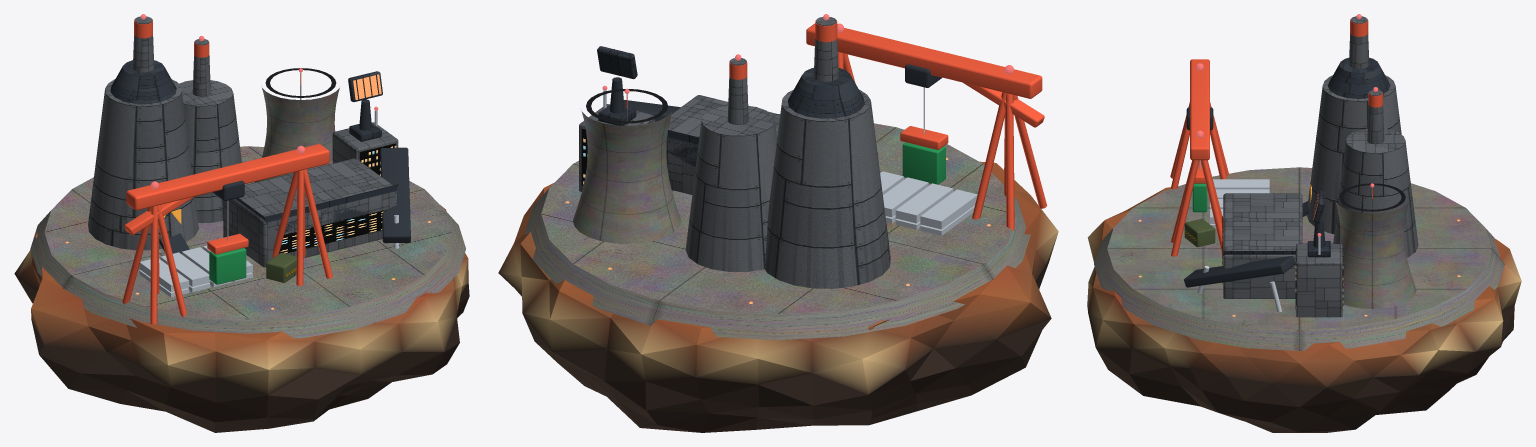
File: steel.glb
The picture shows the model from 3 angles, left to right: view 1: azimuth 30°, elevation 25°; view 2: azimuth 150°, elevation 25°; view 3: azimuth 270°, elevation 25°; orthographic projection. The views are drawn at different scales.
Visible parts, largest first — view 1: object 1, object 2, object 13, object 23, object 18, object 42, object 20, object 47, anim:trolley, anim:smoke (×2), object 14, object 25 (+16 smaller); view 2: object 1, object 2, object 13, object 18, object 20, object 42, anim:trolley, anim:smoke (×2), object 23, object 14, object 30, object 34 (+9 smaller); view 3: object 1, object 2, object 23, object 20, object 18, object 13, object 50, object 42, anim:smoke (×2), object 47, object 14, anim:trolley (+6 smaller).
Part boxes in pixels (x1,y1,x2,y2): object 1: [14, 205, 469, 432]; object 2: [30, 146, 465, 338]; object 13: [88, 79, 198, 250]; object 23: [223, 158, 396, 267]; object 18: [179, 80, 241, 222]; object 42: [126, 144, 329, 210]; object 20: [254, 88, 339, 182]; object 47: [380, 147, 410, 243]; anim:trolley: [207, 180, 248, 284]; anim:smoke (×2): [132, 14, 210, 96]; object 14: [110, 60, 176, 103]; object 25: [279, 209, 386, 253]; object 1: [498, 161, 1058, 432]; object 2: [525, 114, 1030, 340]; object 13: [765, 89, 890, 288]; object 18: [685, 106, 777, 271]; object 20: [573, 111, 681, 243]; object 42: [806, 23, 1042, 98]; anim:trolley: [900, 64, 948, 184]; anim:smoke (×2): [727, 14, 838, 124]; object 23: [666, 95, 780, 194]; object 14: [788, 67, 864, 118]; object 30: [920, 189, 977, 229]; object 34: [1005, 93, 1014, 230]; object 1: [1087, 187, 1521, 432]; object 2: [1094, 167, 1504, 350]; object 23: [1223, 193, 1302, 298]; object 20: [1335, 201, 1416, 309]; object 18: [1333, 128, 1418, 257]; object 13: [1306, 75, 1401, 233]; object 50: [1296, 243, 1342, 317]; object 42: [1190, 59, 1209, 160]; anim:smoke (×2): [1349, 14, 1384, 144]; object 47: [1184, 256, 1295, 287]; object 14: [1327, 57, 1390, 98]; anim:trolley: [1186, 107, 1213, 212].
Size of the model in its own units: 6.96 by 5.34 by 6.55.
Materials: 17 (6 with a texture image).
